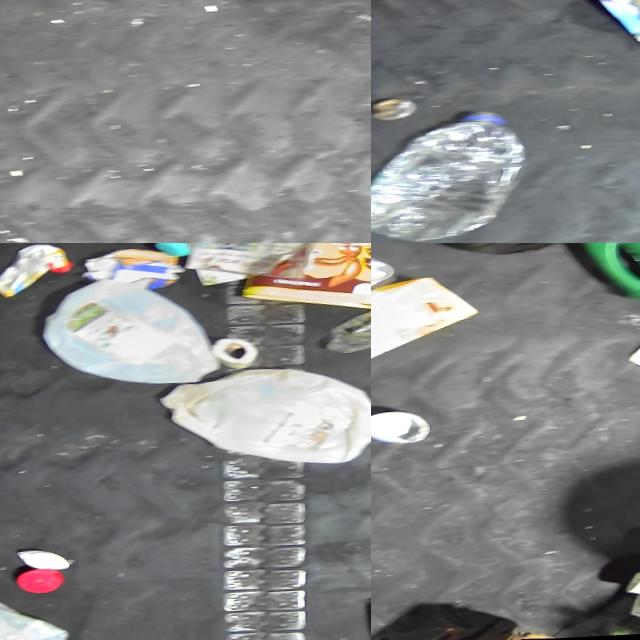can: (371, 411, 432, 450), (371, 255, 395, 308)
milk_jug: (157, 368, 371, 475), (40, 274, 219, 392), (620, 562, 640, 640)
non_white_jug: (239, 243, 371, 320), (563, 243, 640, 329)
plastic_bottle: (371, 113, 528, 243), (323, 295, 371, 359)
